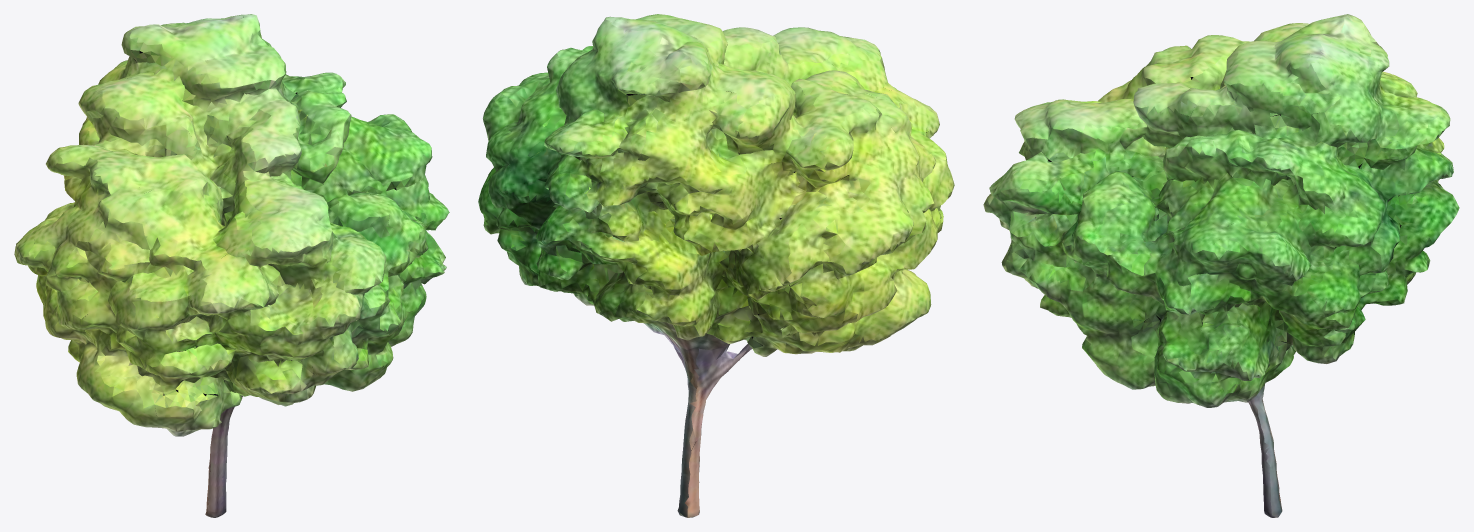
Rendered from SPAR3D_result_20250714_120355.glb.
3 renders of one model, left to right at view 1: azimuth 30°, elevation 25°; view 2: azimuth 150°, elevation 25°; view 3: azimuth 270°, elevation 25°, orthographic. The views are drawn at different scales.
Parts seen in each view (by area): view 1: world; view 2: world; view 3: world.
Part boxes in pixels (x1,y1,x2,y2): world: [14, 14, 449, 517]; world: [478, 14, 954, 517]; world: [983, 14, 1459, 517].
Size of the model in its own units: 0.849 by 0.9688 by 0.8651.
1 material, 1 textured.
